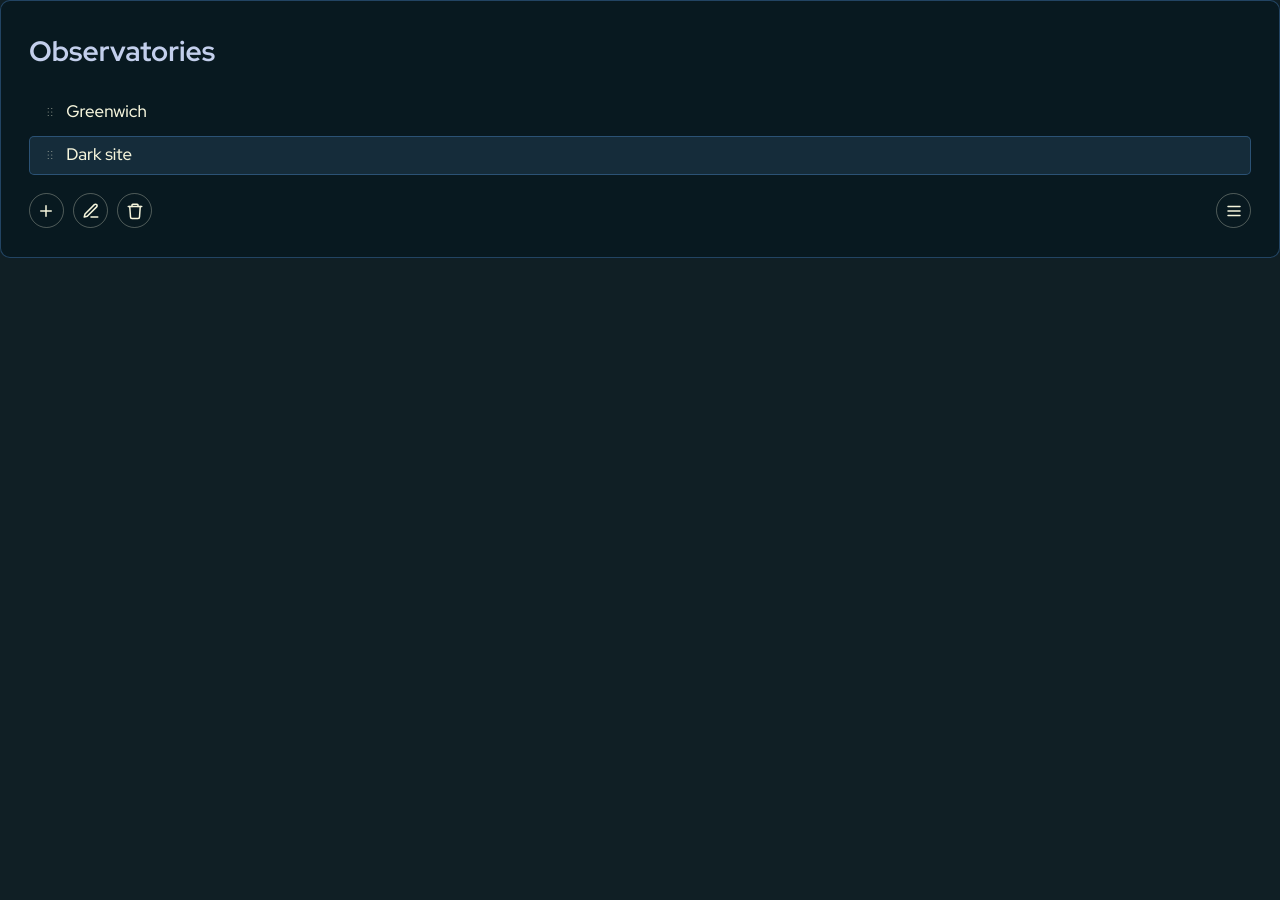
editing › edits the site that was double-clicked
This screenshot has width=1280, height=900.
Double-click the option "Greenwich" at (107, 111), box 29,92 -> 1251,131
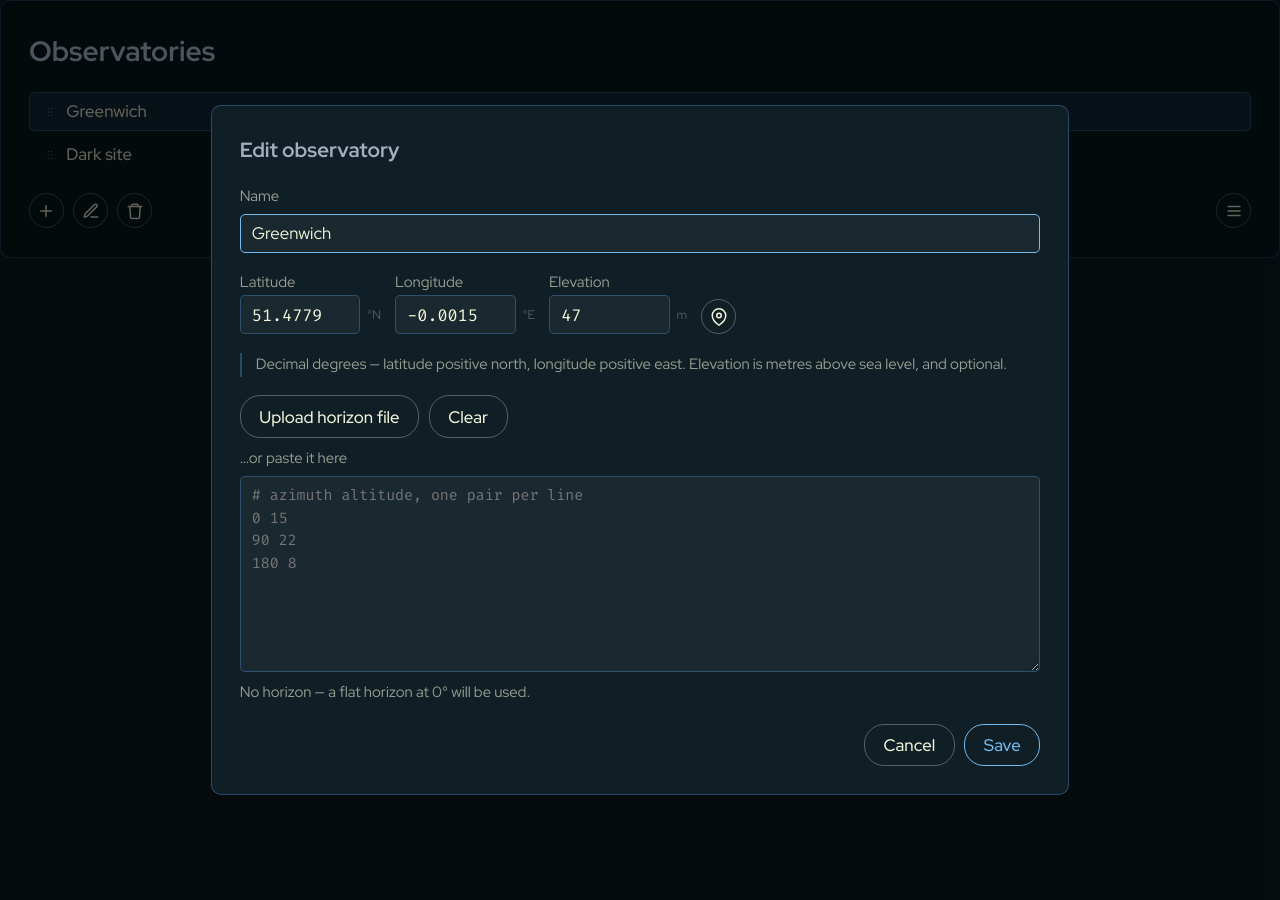
Expected: the field labelled "Name" holds "Greenwich", 240,214 -> 1040,253
